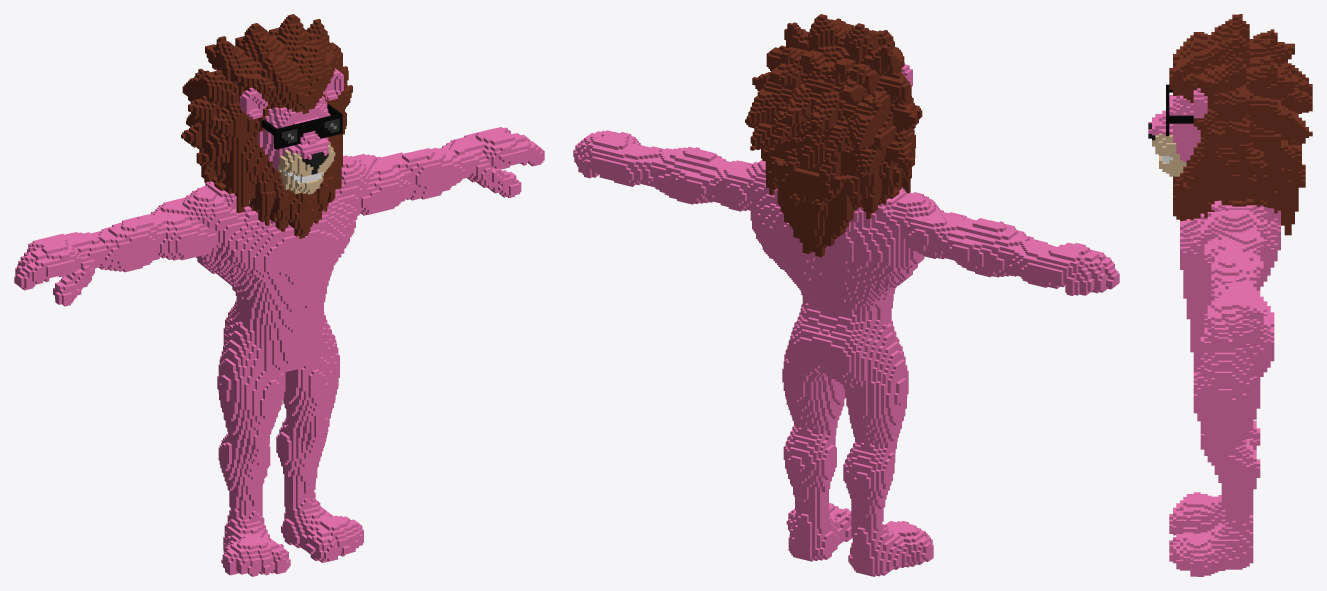
Rendered from 89-Ba8zoRpf.glb.
3 views of the same model, side by side, from view 1: azimuth 30°, elevation 25°; view 2: azimuth 150°, elevation 25°; view 3: azimuth 270°, elevation 25° (orthographic). The views are drawn at different scales.
Parts seen in each view (by area): view 1: big_smile; view 2: big_smile; view 3: big_smile.
Boxes of the visible parts, left/top/right/bottom form: big_smile: left=14, top=14, right=544, bottom=576; big_smile: left=573, top=14, right=1119, bottom=576; big_smile: left=1148, top=14, right=1312, bottom=576.
Bounding box in the file's own units: 17.2 × 16.5 × 4.7.
4 materials, 4 textured.
